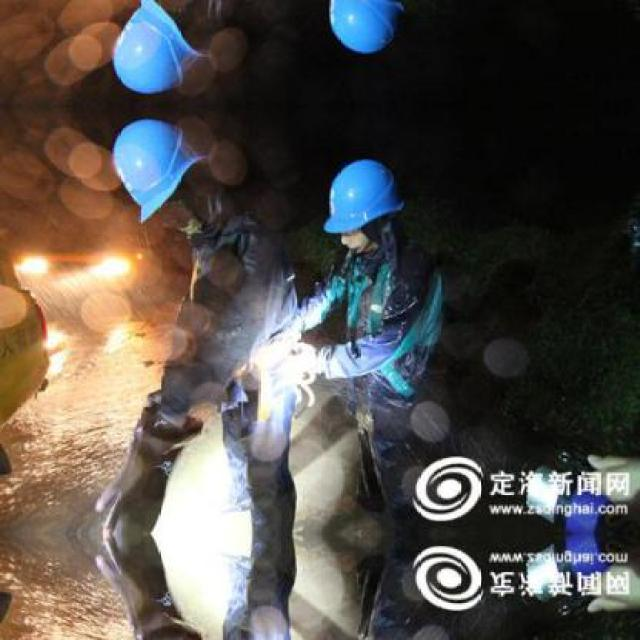helmet: (106, 116, 205, 231), (106, 0, 206, 97), (322, 153, 404, 265), (322, 0, 406, 60)
